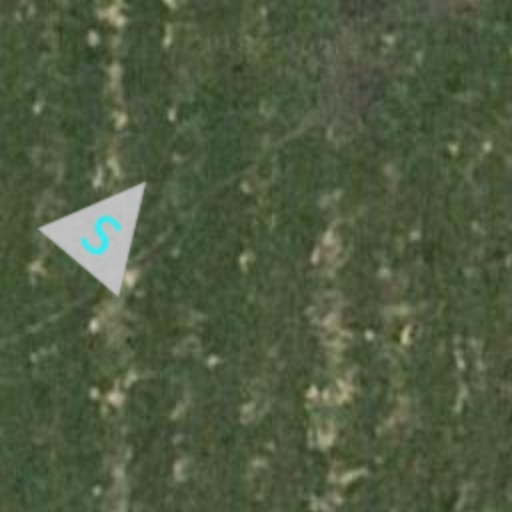triangle: (36, 146, 188, 298)
